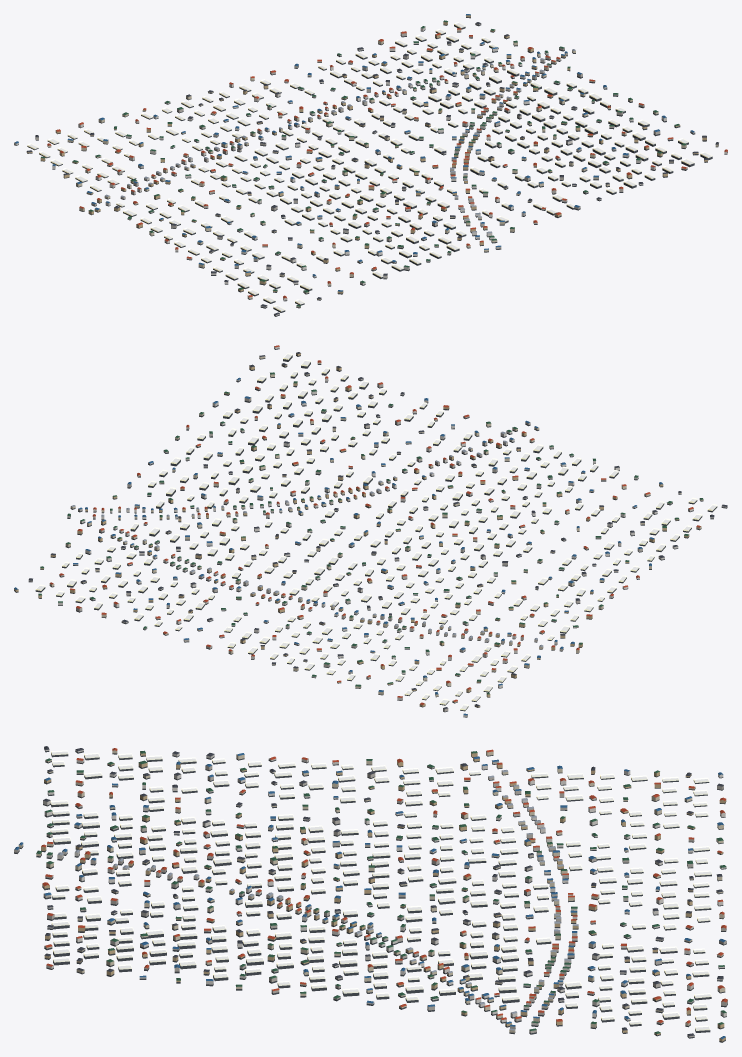
File: buildings_T_W02_N07.glb
The picture shows the model from 3 angles, top to bottom: view 1: azimuth 30°, elevation 25°; view 2: azimuth 150°, elevation 25°; view 3: azimuth 270°, elevation 25°; orthographic projection. The views are drawn at different scales.
Visible parts, largest first — view 1: T_W02_N07_slope_seating_foundations, T_W02_N07_roofs_agri_greenhouse_arch, T_W02_N07_walls_wall_modern_warm_white, T_W02_N07_walls_wall_french_ochre_villa, T_W02_N07_walls_wall_dalat_cream_stucco, T_W02_N07_walls_wall_pastel_sand_gray, T_W02_N07_roofs_roof_terracotta_gable, T_W02_N07_roofs_roof_pine_green_hip, T_W02_N07_roofs_roof_highland_blue_gable, T_W02_N07_roofs_roof_slate_French_villa_hip, T_W02_N07_roofs_roof_zinc_silver_gable; view 2: T_W02_N07_slope_seating_foundations, T_W02_N07_roofs_agri_greenhouse_arch, T_W02_N07_walls_wall_modern_warm_white, T_W02_N07_walls_wall_french_ochre_villa, T_W02_N07_walls_wall_dalat_cream_stucco, T_W02_N07_walls_wall_pastel_sand_gray, T_W02_N07_roofs_roof_terracotta_gable, T_W02_N07_roofs_roof_pine_green_hip, T_W02_N07_roofs_roof_highland_blue_gable, T_W02_N07_roofs_roof_slate_French_villa_hip; view 3: T_W02_N07_slope_seating_foundations, T_W02_N07_roofs_agri_greenhouse_arch, T_W02_N07_walls_wall_modern_warm_white, T_W02_N07_walls_wall_french_ochre_villa, T_W02_N07_walls_wall_dalat_cream_stucco, T_W02_N07_walls_wall_pastel_sand_gray, T_W02_N07_roofs_roof_terracotta_gable, T_W02_N07_roofs_roof_pine_green_hip, T_W02_N07_roofs_roof_highland_blue_gable, T_W02_N07_roofs_roof_slate_French_villa_hip, T_W02_N07_roofs_roof_zinc_silver_gable.
Part boxes in pixels (bbox=[...]): T_W02_N07_slope_seating_foundations: bbox=[14, 17, 727, 316]; T_W02_N07_roofs_agri_greenhouse_arch: bbox=[27, 22, 712, 311]; T_W02_N07_walls_wall_modern_warm_white: bbox=[14, 27, 727, 315]; T_W02_N07_walls_wall_french_ochre_villa: bbox=[26, 15, 707, 293]; T_W02_N07_walls_wall_dalat_cream_stucco: bbox=[47, 29, 718, 307]; T_W02_N07_walls_wall_pastel_sand_gray: bbox=[35, 23, 673, 270]; T_W02_N07_roofs_roof_terracotta_gable: bbox=[47, 28, 727, 298]; T_W02_N07_roofs_roof_pine_green_hip: bbox=[41, 20, 686, 306]; T_W02_N07_roofs_roof_highland_blue_gable: bbox=[15, 14, 694, 291]; T_W02_N07_roofs_roof_slate_French_villa_hip: bbox=[27, 22, 718, 314]; T_W02_N07_roofs_roof_zinc_silver_gable: bbox=[105, 49, 575, 233]; T_W02_N07_slope_seating_foundations: bbox=[14, 348, 727, 717]; T_W02_N07_roofs_agri_greenhouse_arch: bbox=[35, 353, 717, 710]; T_W02_N07_walls_wall_modern_warm_white: bbox=[58, 346, 727, 716]; T_W02_N07_walls_wall_french_ochre_villa: bbox=[14, 353, 689, 707]; T_W02_N07_walls_wall_dalat_cream_stucco: bbox=[49, 356, 703, 702]; T_W02_N07_walls_wall_pastel_sand_gray: bbox=[28, 383, 642, 711]; T_W02_N07_roofs_roof_terracotta_gable: bbox=[50, 345, 700, 704]; T_W02_N07_roofs_roof_pine_green_hip: bbox=[38, 372, 703, 694]; T_W02_N07_roofs_roof_highland_blue_gable: bbox=[14, 377, 662, 715]; T_W02_N07_roofs_roof_slate_French_villa_hip: bbox=[28, 352, 727, 709]; T_W02_N07_slope_seating_foundations: bbox=[14, 748, 727, 1042]; T_W02_N07_roofs_agri_greenhouse_arch: bbox=[50, 750, 711, 1030]; T_W02_N07_walls_wall_modern_warm_white: bbox=[43, 747, 726, 1025]; T_W02_N07_walls_wall_french_ochre_villa: bbox=[41, 752, 726, 1041]; T_W02_N07_walls_wall_dalat_cream_stucco: bbox=[18, 750, 725, 1032]; T_W02_N07_walls_wall_pastel_sand_gray: bbox=[14, 761, 727, 1037]; T_W02_N07_roofs_roof_terracotta_gable: bbox=[41, 748, 727, 1023]; T_W02_N07_roofs_roof_pine_green_hip: bbox=[36, 750, 726, 1033]; T_W02_N07_roofs_roof_highland_blue_gable: bbox=[14, 753, 726, 1039]; T_W02_N07_roofs_roof_slate_French_villa_hip: bbox=[43, 746, 723, 1036]; T_W02_N07_roofs_roof_zinc_silver_gable: bbox=[57, 770, 578, 1030].
Bounding box in the file's own units: 1924 × 272 × 1826.
